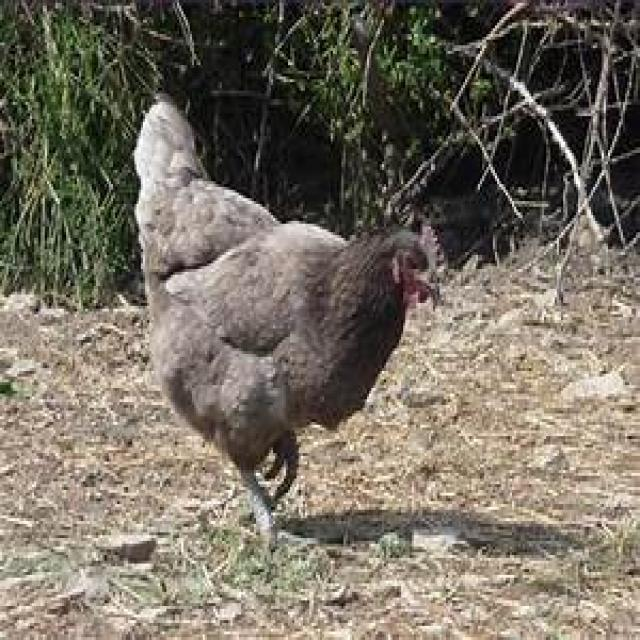hen: (132, 93, 442, 538)
